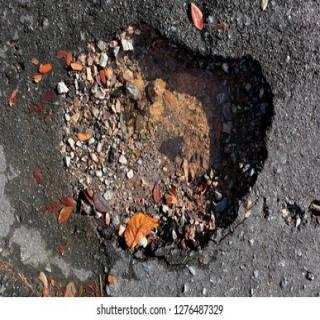pothole: (56, 23, 274, 266)
